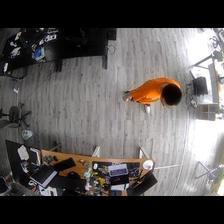normal: (124, 76, 182, 115)
